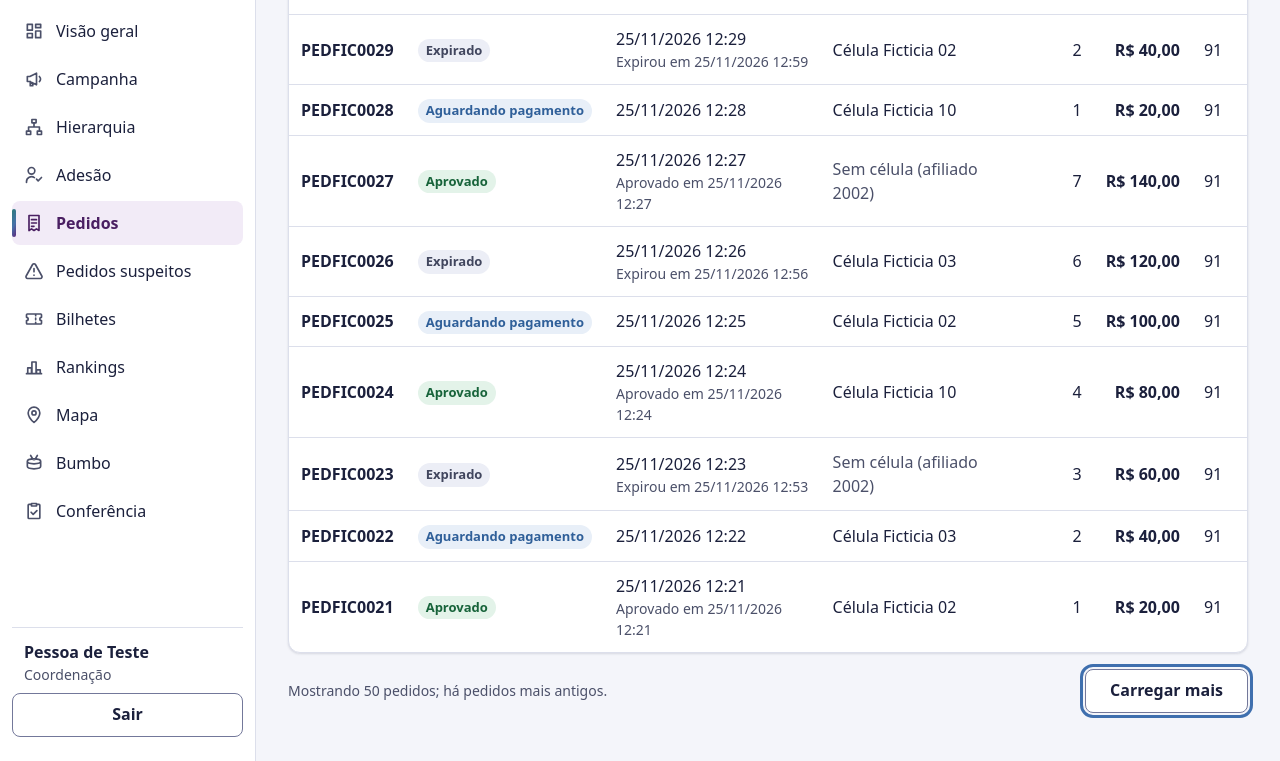
CA1: a lista de pedidos › outro 400 no Carregar mais (sem ser do cursor) aparece como erro e não recarrega a primeira página
(page scrolled)
What coordinates should you click on to do the following:
click the button "Carregar mais"
I would click on:
 (1166, 690)
Its box is [1085,668,1248,712].
(page scrolled)
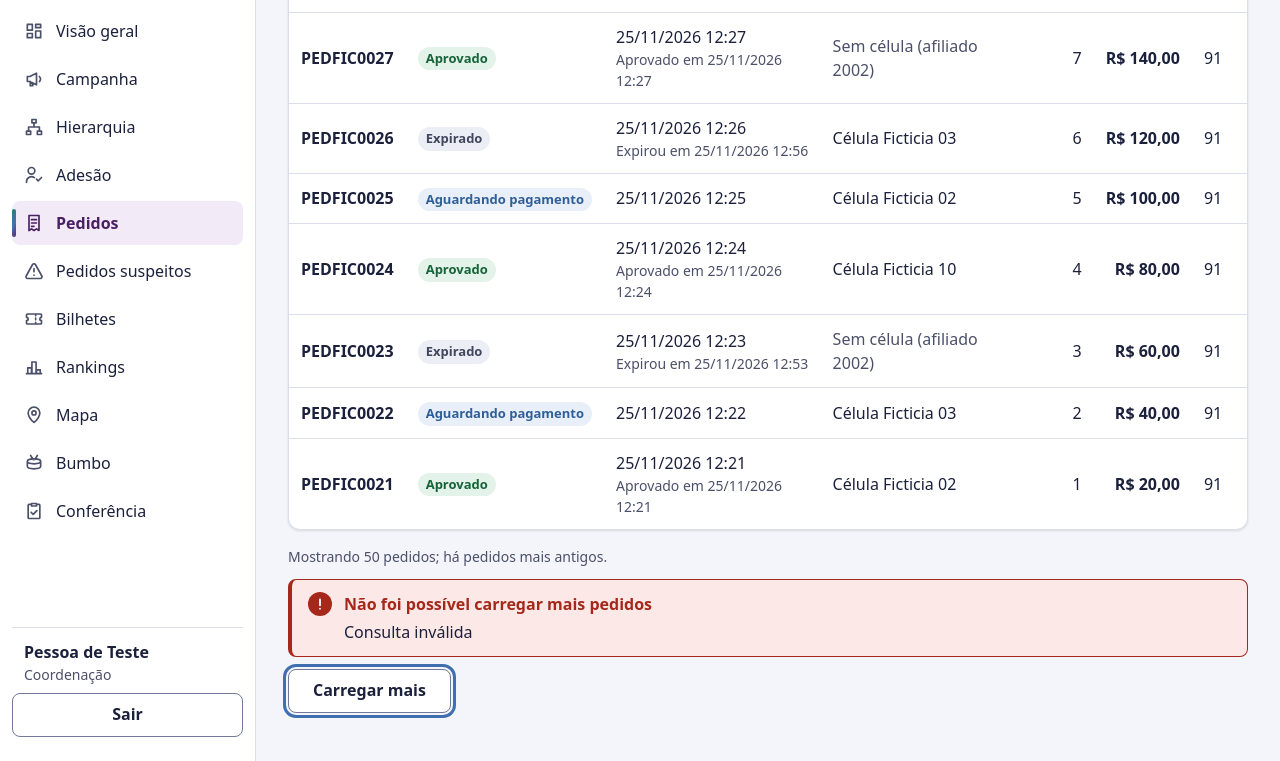
Result: the message shows "Não foi possível carregar mais pedidos" at [344,592,652,614]
